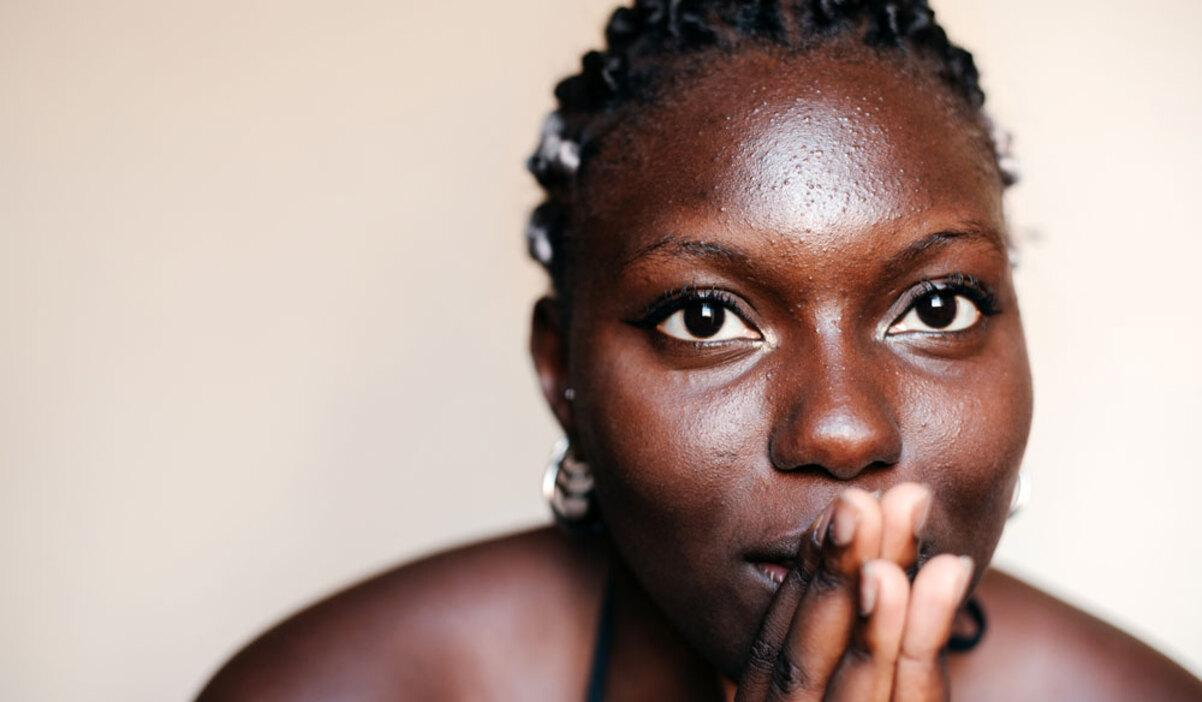Oily-Skin: (647, 387, 760, 469)
